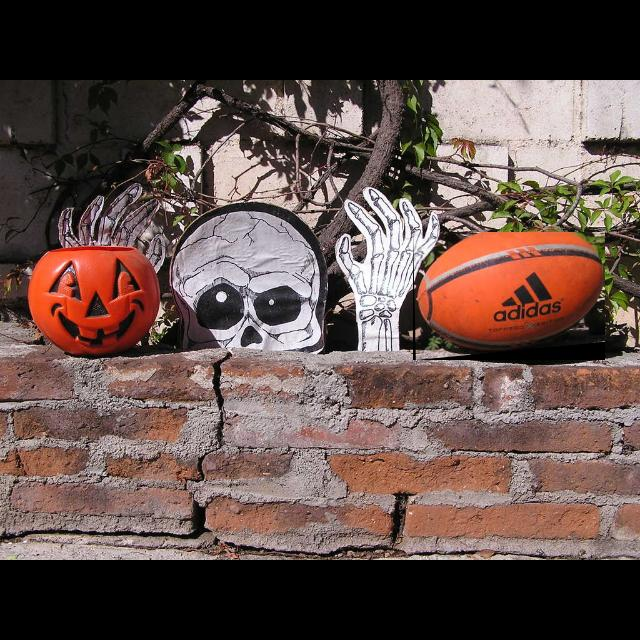Football: (413, 232, 605, 360)
